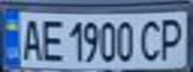0: (115, 18, 139, 63), (100, 18, 118, 63)
1: (63, 17, 84, 62)
9: (81, 18, 100, 63)
A: (15, 15, 45, 62)
C: (136, 16, 166, 63)
E: (39, 16, 66, 62)
P: (157, 15, 190, 62)
